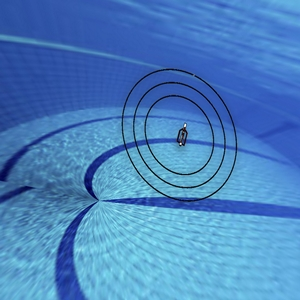circle: (113, 54, 245, 215)
submarine: (171, 121, 194, 156)
